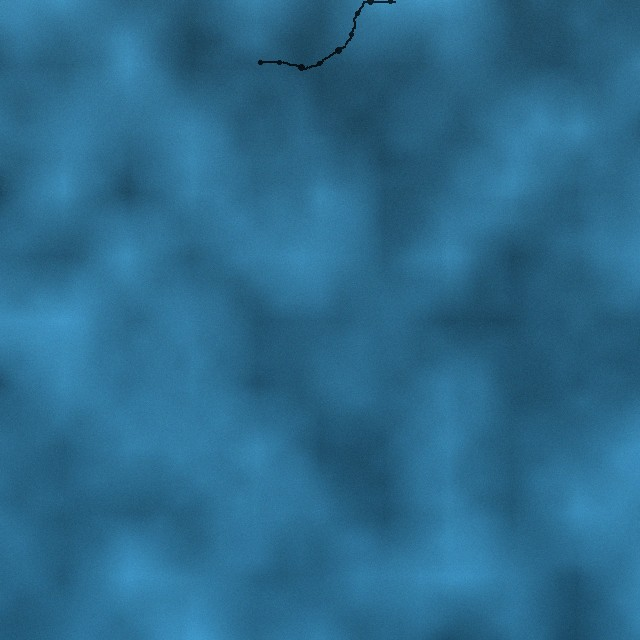crack: (256, 0, 399, 72)
